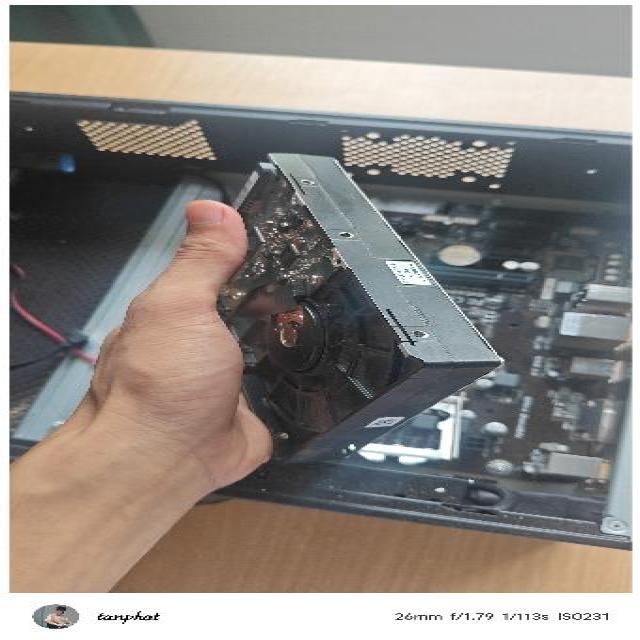DISK: (162, 148, 508, 469)
